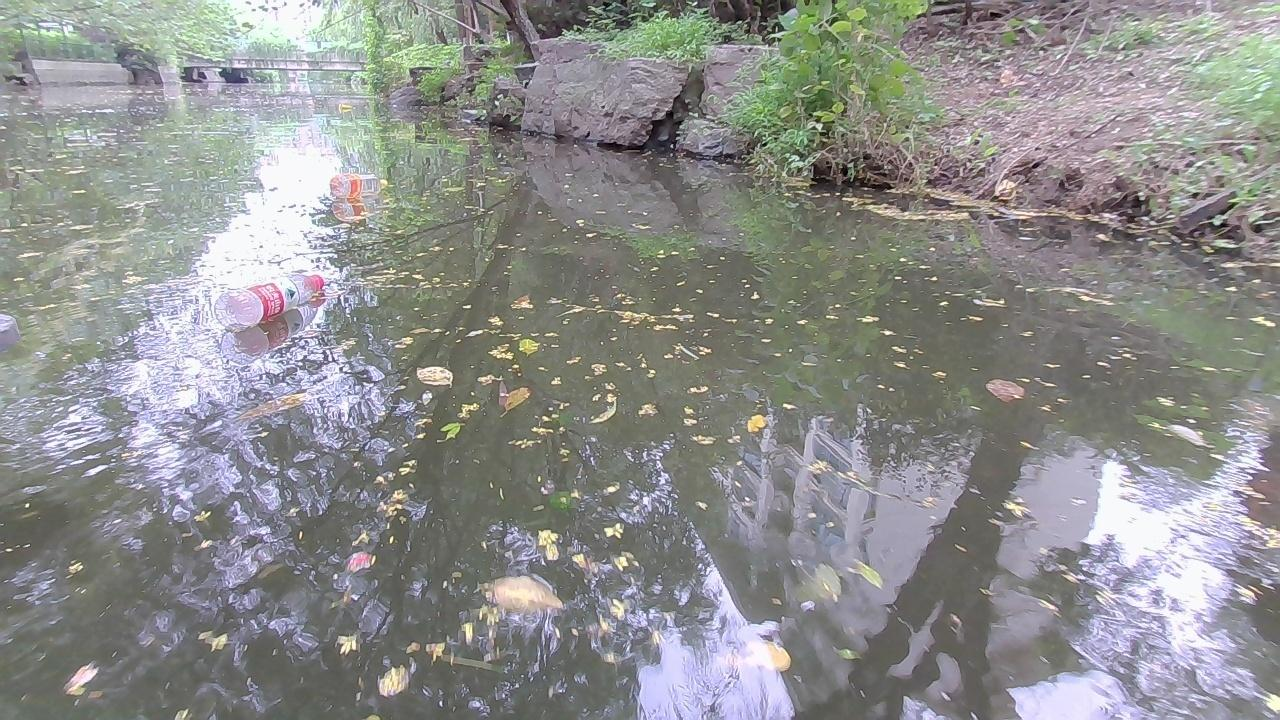bottle: (218, 265, 318, 329), (326, 169, 395, 201), (335, 102, 351, 112)
